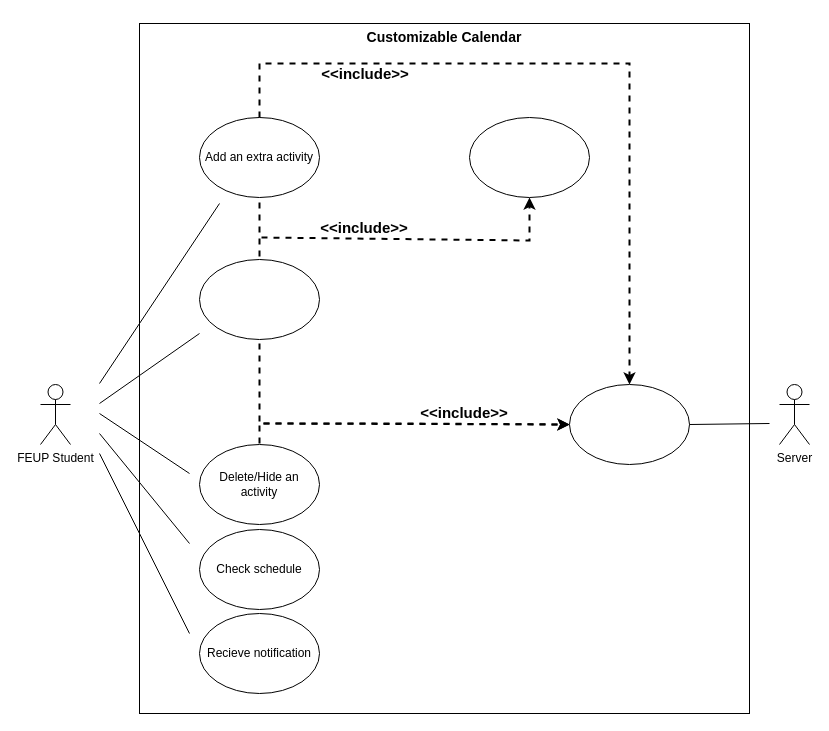
The diagram is 829 pixels wide and 731 high, and some of its shapes have lost their labels. Here are the shapes that lost their labels. From the top down, the centre of each, then its label:
At point 529,157: "Set activity fields".
At point 259,299: "Edit an extra activity".
At point 629,424: "Synchronize data".
